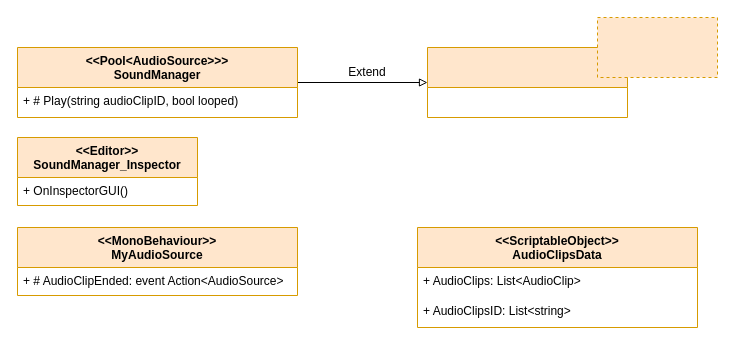
Some shapes in this 735 by 348 pixel diagram are drawn without their labels. Here are the shapes that lost their labels. From the top down, the centre of each, then its label:
At (657,47): "TPoolObj (Component)".
At (527,82): "<<MonoBehaviour>> Pool".
